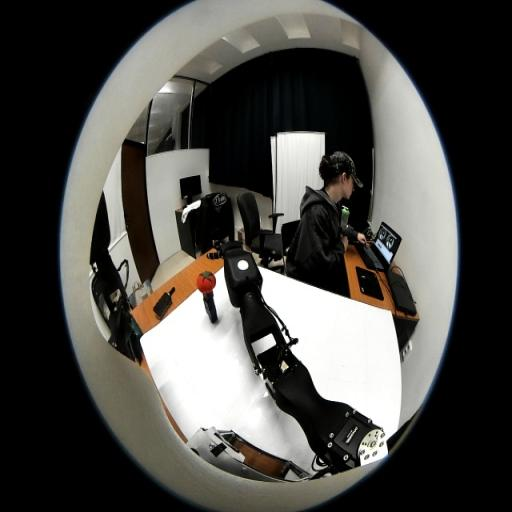RightHand: (222, 242, 235, 251)
Tomato: (196, 270, 216, 294)
